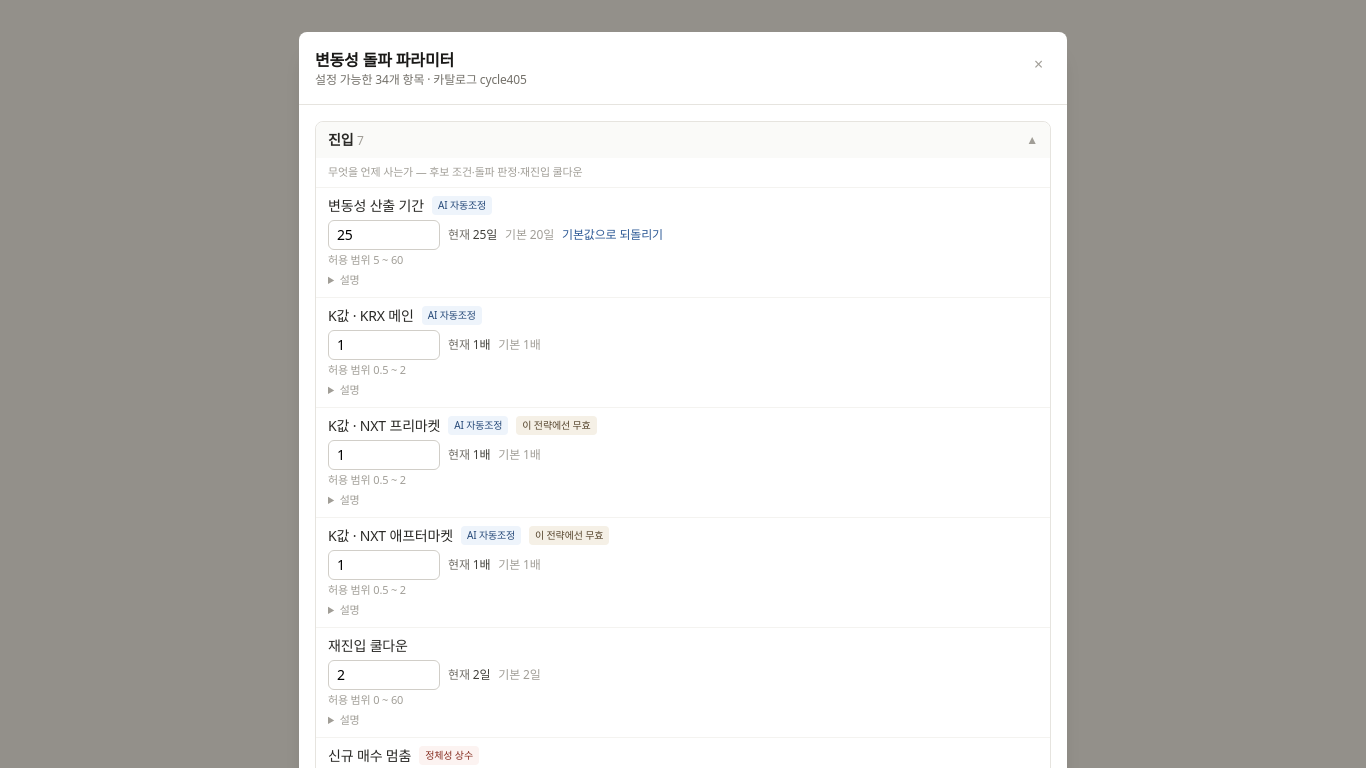
Test: cycle278 F09~F12 — 현재값/기본값·diff·정체성 2단계 확인 › F10 변경 전에는 diff 가 비어 있고 변경 후 그 키만 나타난다
The width and height of the screenshot is (1366, 768).
Replace the text in the field with test id "strategy-params-input-k-period" with "30" at (384, 234), box [328, 220, 440, 250]
(page scrolled)
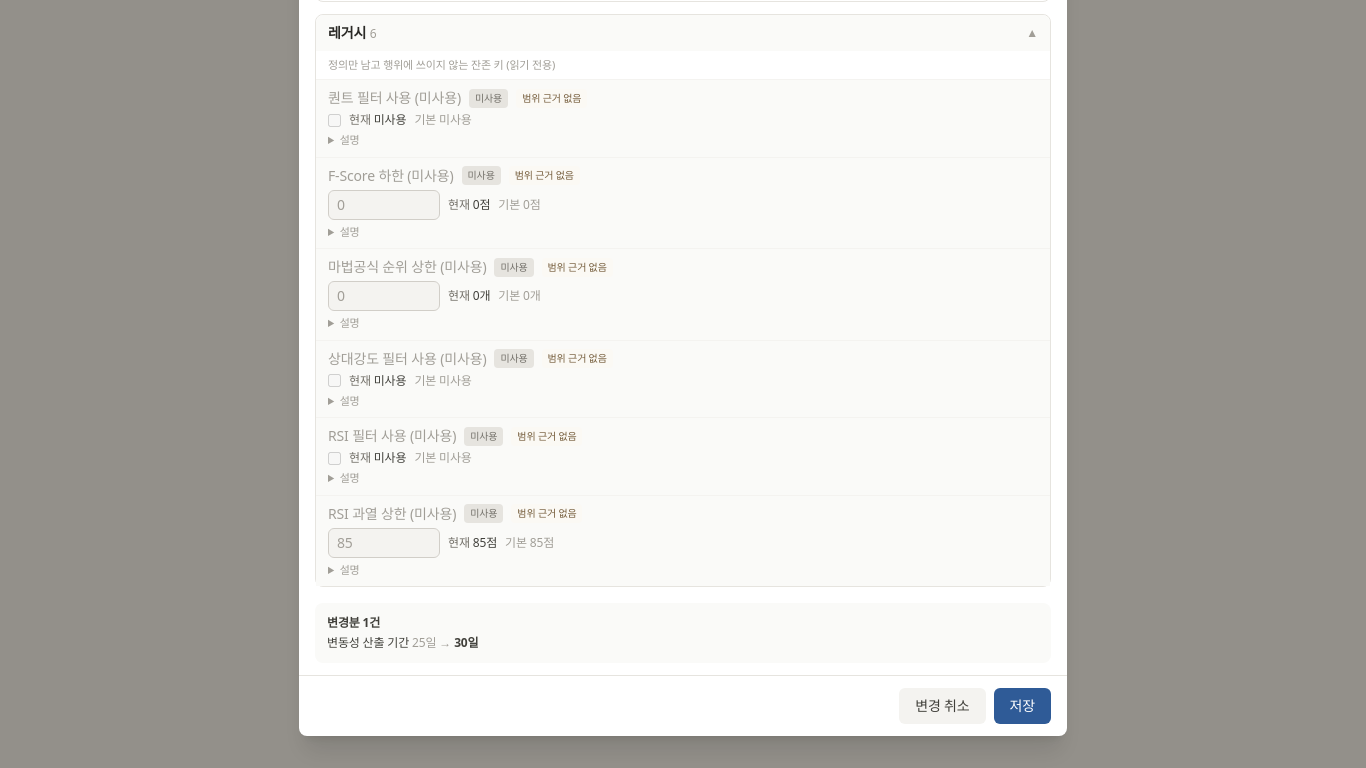
Result: the list item with test id "strategy-params-diff-row-k-period" shows "25" at [327, 634, 478, 651]
Result: the list item with test id "strategy-params-diff-row-k-period" shows "30" at [327, 634, 478, 651]
